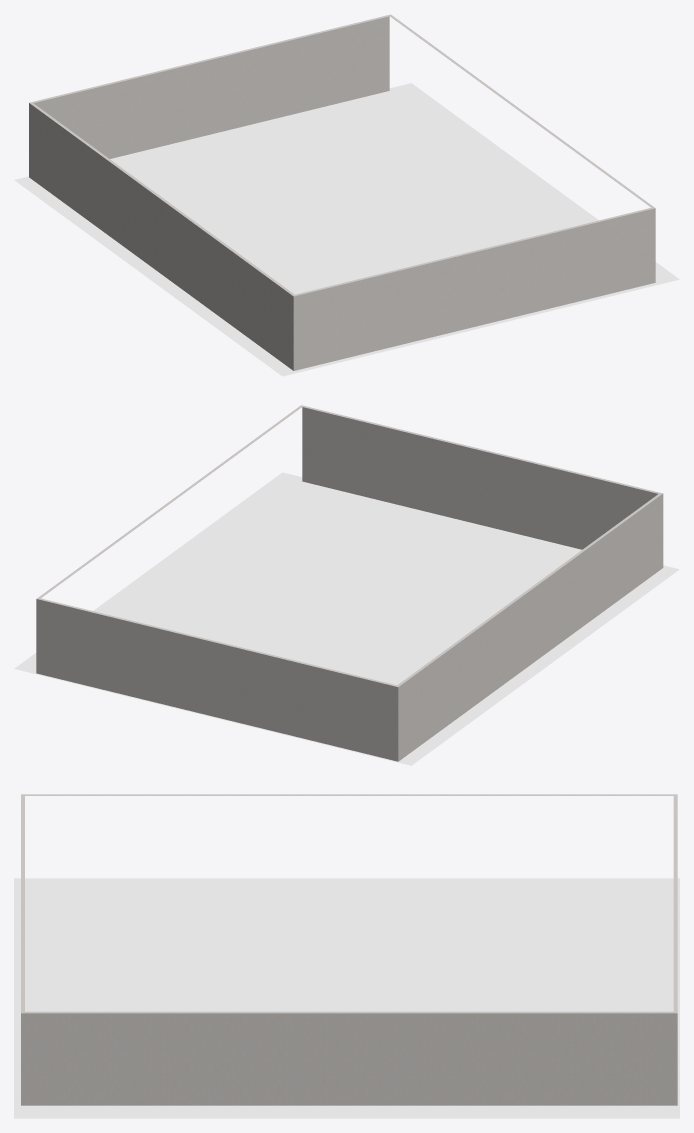
The model's file is simple-wireframe-store.glb.
3 views of the same model, one above another, from view 1: azimuth 30°, elevation 25°; view 2: azimuth 150°, elevation 25°; view 3: azimuth 270°, elevation 25° (orthographic). The views are drawn at different scales.
Visible parts, largest first — view 1: Layer3D_Gray, Plane; view 2: Layer3D_Gray, Plane; view 3: Plane, Layer3D_Gray.
Part boxes in pixels (x1,y1,x2,y2): Layer3D_Gray: (29,14,655,370); Plane: (14,83,679,376); Layer3D_Gray: (36,405,663,761); Plane: (14,472,679,765); Plane: (14,878,679,1118); Layer3D_Gray: (21,794,677,1105).
Bounding box in the file's own units: 27.89 × 5 × 32.63.
2 materials, 1 textured.
